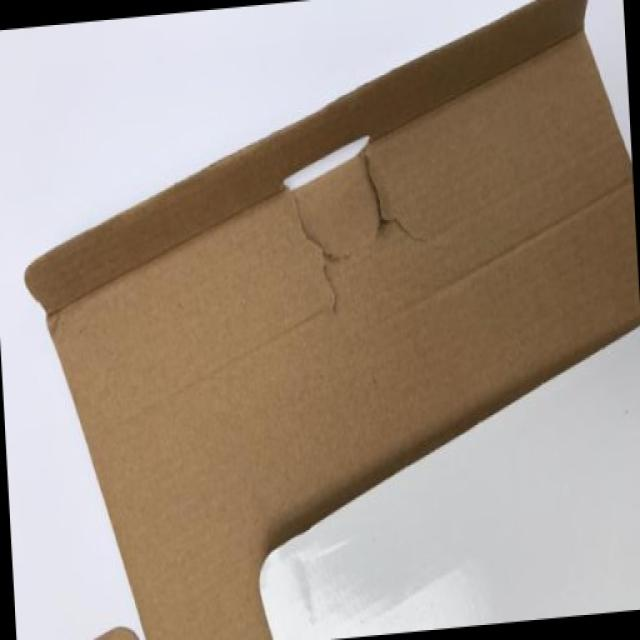carton: (53, 4, 640, 640)
